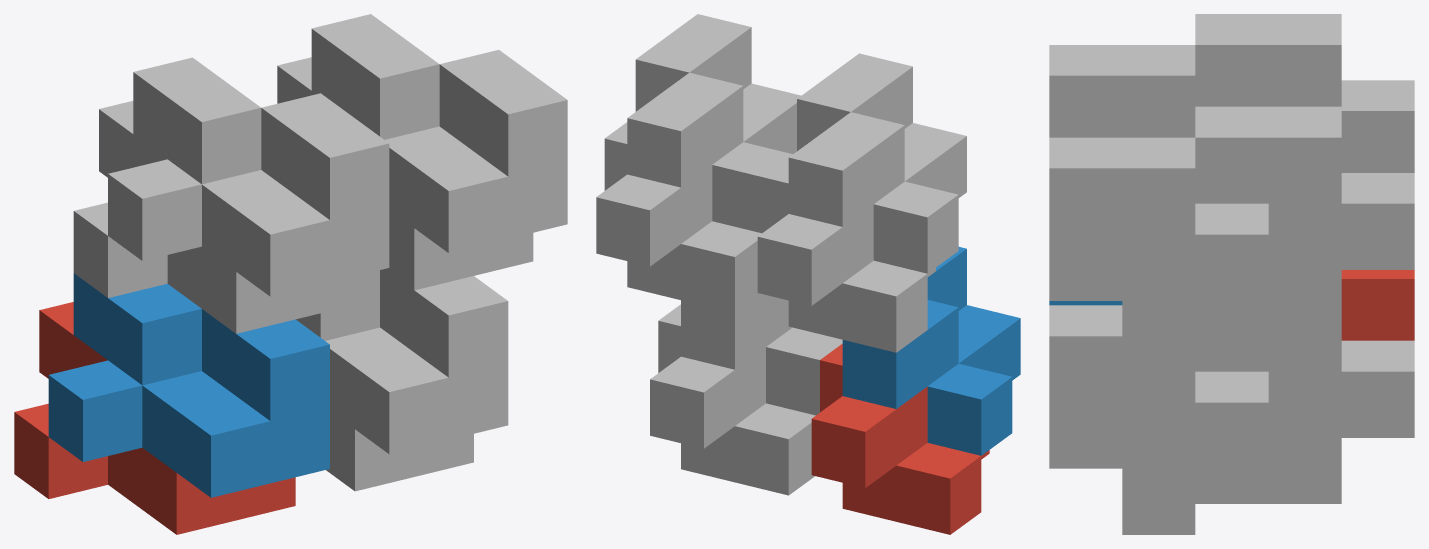
Rendered from tiling.obj.
The picture shows the model from 3 angles, left to right: view 1: azimuth 30°, elevation 25°; view 2: azimuth 150°, elevation 25°; view 3: azimuth 270°, elevation 25°; orthographic projection. The views are drawn at different scales.
Visible parts, largest first — view 1: copy_1_domain_4, copy_1_domain_2, copy_1_domain_8, copy_1_domain_6, copy_1_domain_1, copy_1_domain_3, copy_1_domain_7, copy_1_domain_5; view 2: copy_1_domain_4, copy_1_domain_8, copy_1_domain_2, copy_1_domain_1, copy_1_domain_3, copy_1_domain_7, copy_1_domain_5, copy_1_domain_6; view 3: copy_1_domain_7, copy_1_domain_5, copy_1_domain_8, copy_1_domain_4, copy_1_domain_6, copy_1_domain_3, copy_1_domain_1.
Boxes of the visible parts, left/top/right/bottom form: copy_1_domain_4: left=108, top=57, right=389, bottom=296; copy_1_domain_2: left=48, top=273, right=329, bottom=497; copy_1_domain_8: left=311, top=14, right=567, bottom=252; copy_1_domain_6: left=296, top=269, right=508, bottom=454; copy_1_domain_1: left=14, top=302, right=295, bottom=534; copy_1_domain_3: left=73, top=101, right=354, bottom=333; copy_1_domain_7: left=277, top=57, right=533, bottom=290; copy_1_domain_5: left=326, top=411, right=473, bottom=491; copy_1_domain_4: left=788, top=53, right=966, bottom=273; copy_1_domain_8: left=627, top=14, right=800, bottom=233; copy_1_domain_2: left=842, top=247, right=1020, bottom=455; copy_1_domain_1: left=811, top=344, right=989, bottom=534; copy_1_domain_3: left=757, top=161, right=935, bottom=352; copy_1_domain_7: left=596, top=122, right=761, bottom=313; copy_1_domain_5: left=650, top=304, right=815, bottom=495; copy_1_domain_6: left=681, top=294, right=842, bottom=415; copy_1_domain_7: left=1122, top=173, right=1414, bottom=366; copy_1_domain_5: left=1122, top=340, right=1414, bottom=534; copy_1_domain_8: left=1049, top=106, right=1341, bottom=300; copy_1_domain_4: left=1049, top=14, right=1341, bottom=137; copy_1_domain_6: left=1049, top=305, right=1341, bottom=468; copy_1_domain_3: left=1341, top=80, right=1414, bottom=172; copy_1_domain_1: left=1341, top=270, right=1414, bottom=340.
Size of the model in its own units: 7 by 6 by 5.
